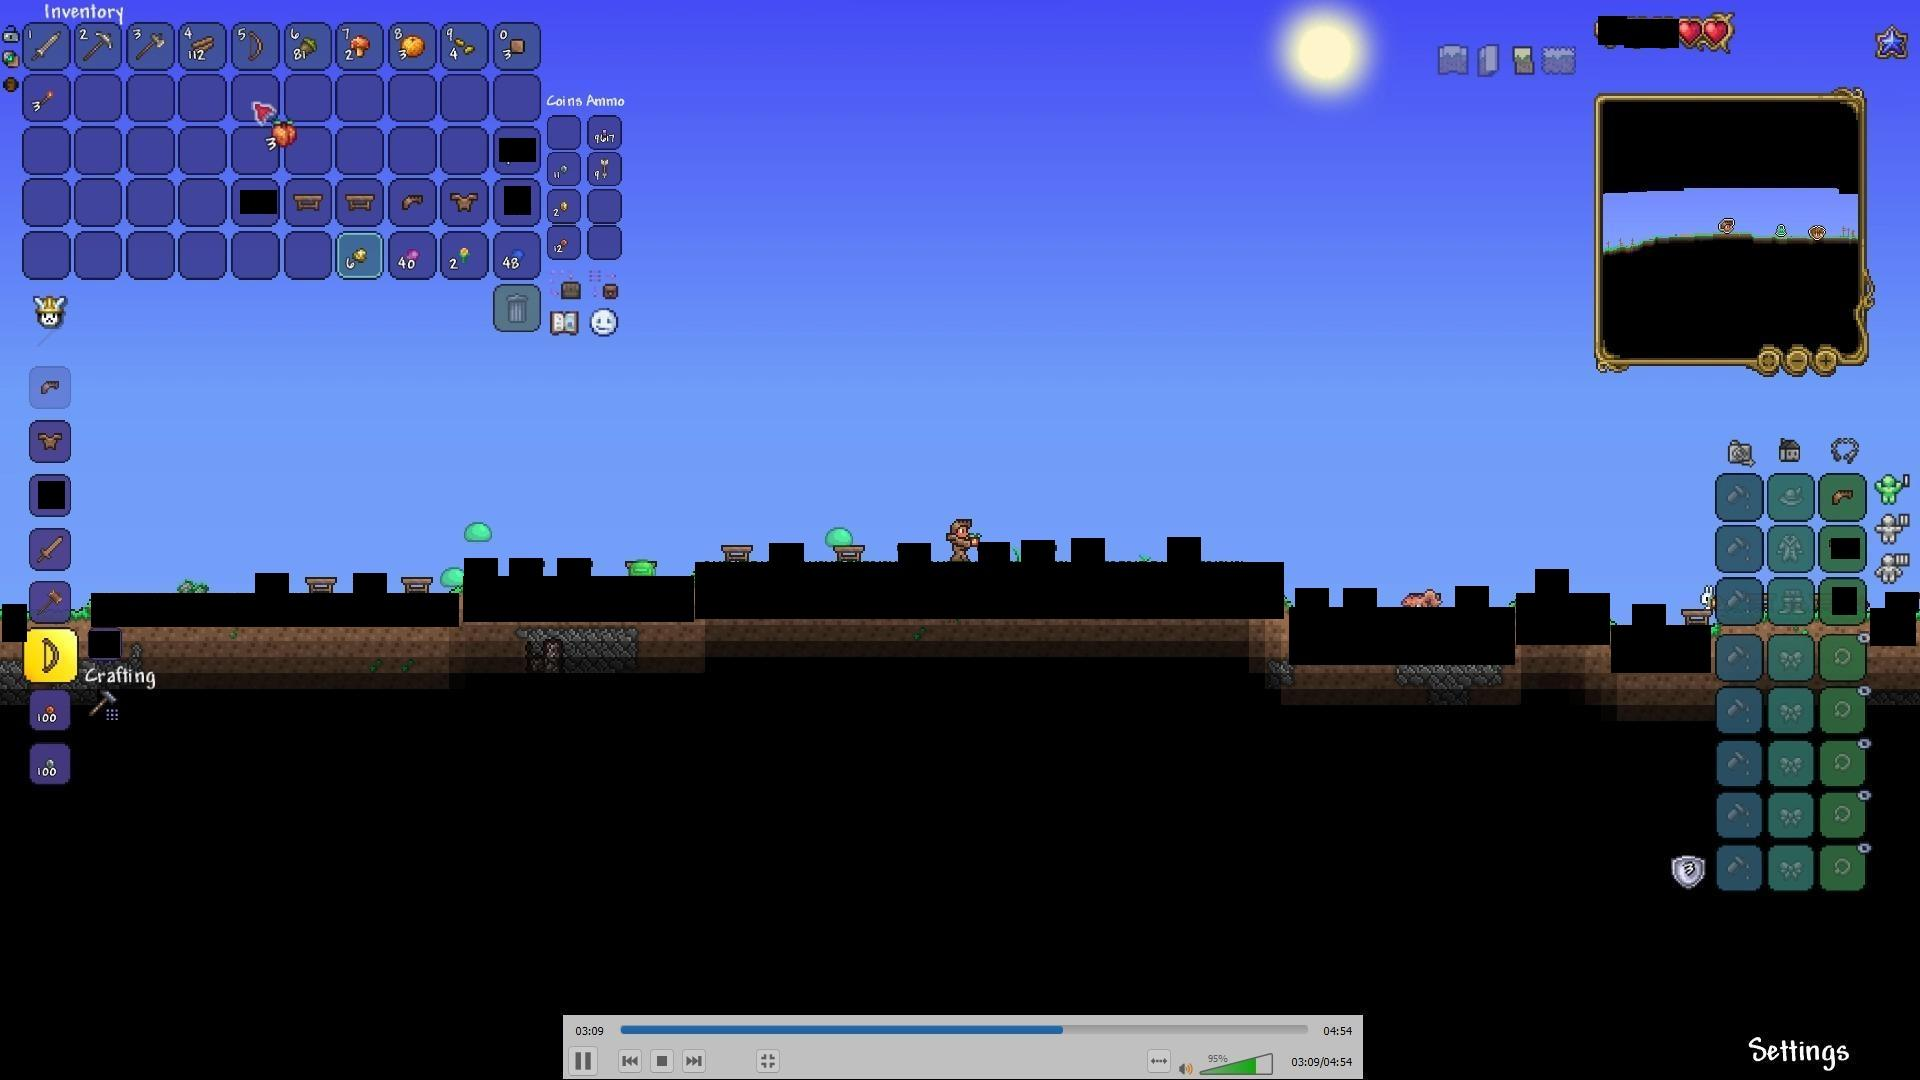breastplate: (36, 429, 65, 450), (448, 190, 477, 210)
heart: (1705, 18, 1731, 46), (1677, 18, 1702, 47)
helmet: (33, 375, 66, 402), (400, 189, 429, 214), (1829, 484, 1857, 509)
slime: (463, 520, 498, 550), (626, 553, 658, 580), (825, 520, 857, 547), (440, 562, 465, 589)
wood: (189, 34, 218, 59)
workbench: (342, 191, 378, 214), (291, 191, 327, 214), (305, 574, 338, 597), (401, 574, 434, 597), (1676, 600, 1709, 624), (721, 543, 754, 567), (832, 545, 865, 567)
